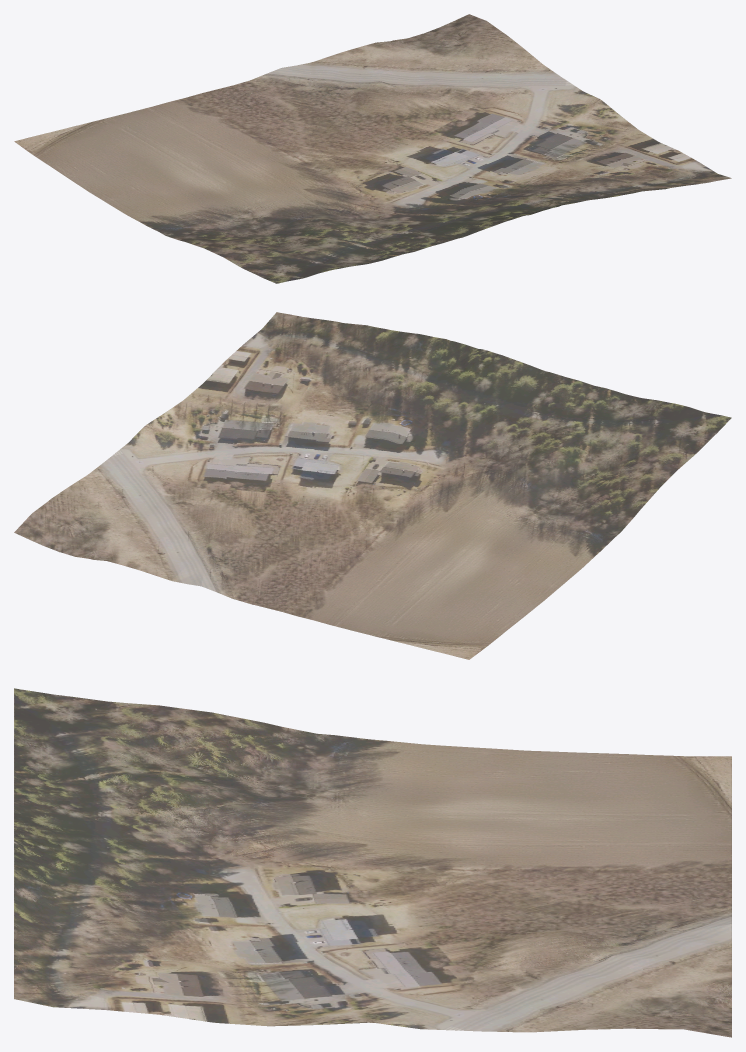
Rendered from CM_Terrain_24493121_6817132.fbx.
The picture shows the model from 3 angles, top to bottom: view 1: azimuth 30°, elevation 25°; view 2: azimuth 150°, elevation 25°; view 3: azimuth 270°, elevation 25°; orthographic projection. The views are drawn at different scales.
Parts seen in each view (by area): view 1: CM_Terrain_24493121_6817132_LOD0; view 2: CM_Terrain_24493121_6817132_LOD0; view 3: CM_Terrain_24493121_6817132_LOD0.
Part boxes in pixels (left/top/right/bottom): CM_Terrain_24493121_6817132_LOD0: left=14, top=14, right=731, bottom=283; CM_Terrain_24493121_6817132_LOD0: left=14, top=312, right=731, bottom=659; CM_Terrain_24493121_6817132_LOD0: left=14, top=688, right=731, bottom=1037.
Size of what is drawn, in the model's own units: 205 by 25.28 by 205.
